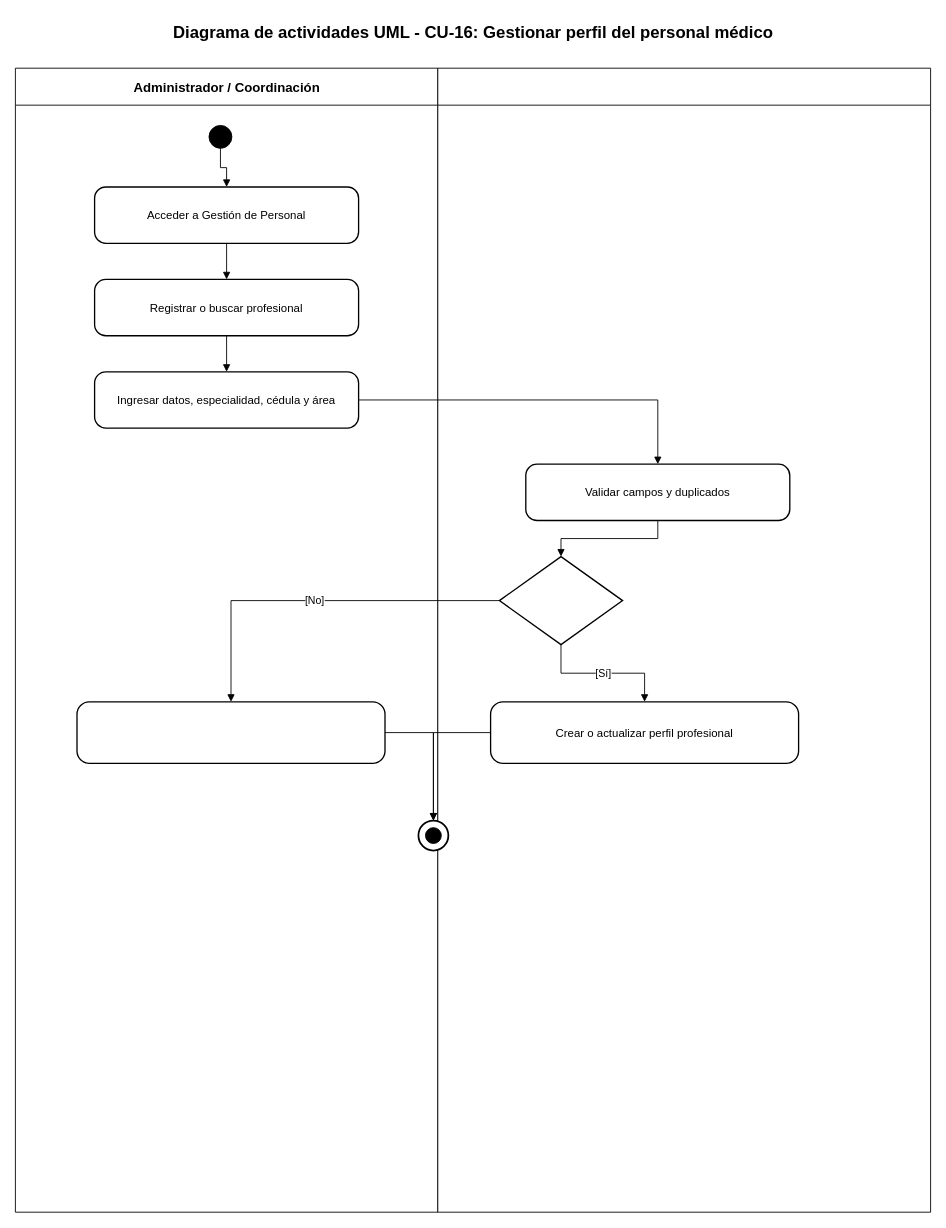
Some shapes in this 946 by 1228 pixel diagram are drawn without their labels. The shapes that lost their labels are listed below. From the top down, each one's box as (x1, y1, x2, y2) in pixels, then its label:
(498, 556, 623, 645): ¿Datos completos y cédula única?
(437, 67, 931, 1212): SICM / Sistema
(76, 701, 385, 764): Bloquear guardado y señalar inconsistencias
